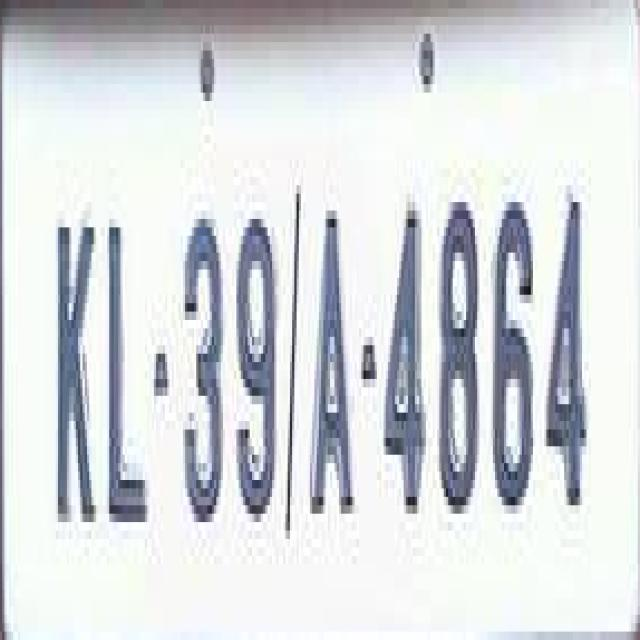license_plate: (0, 0, 609, 632)
